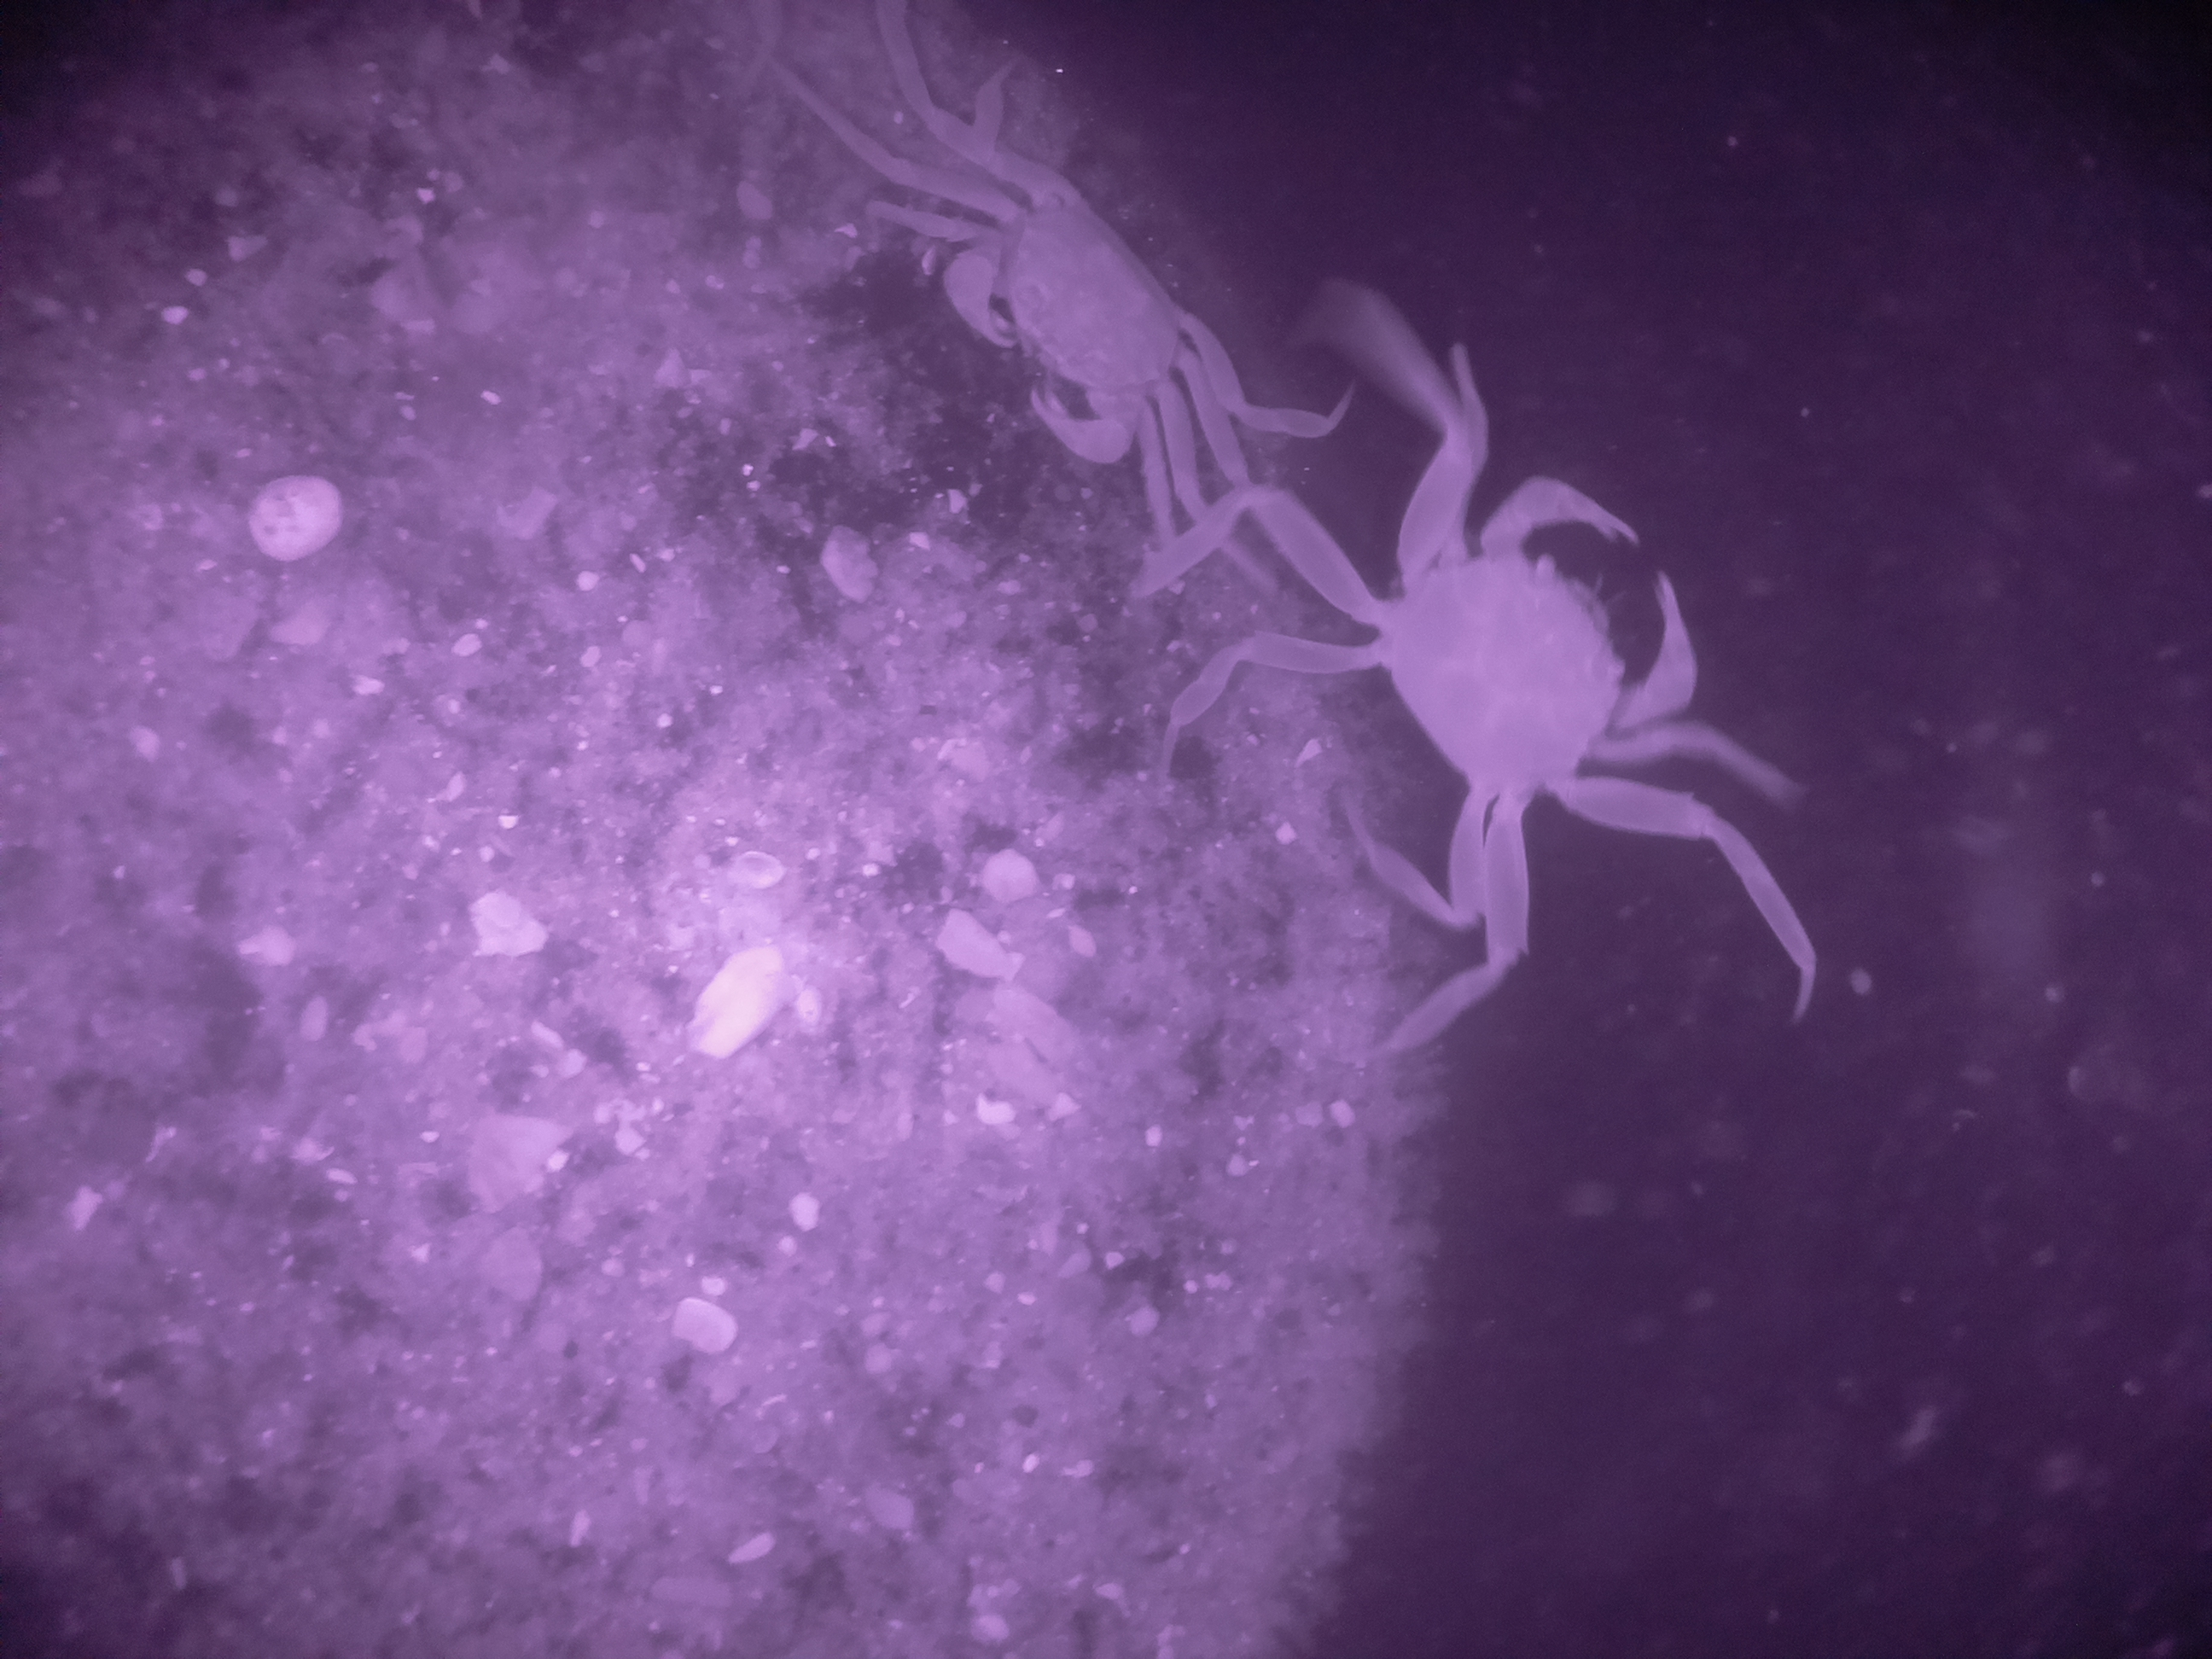Crab: (1211, 427, 1773, 927), (899, 96, 1301, 488)
